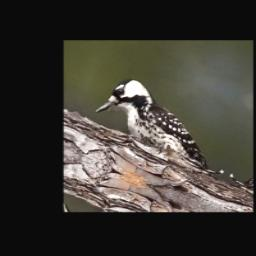Woodpecker: (88, 67, 228, 178)
